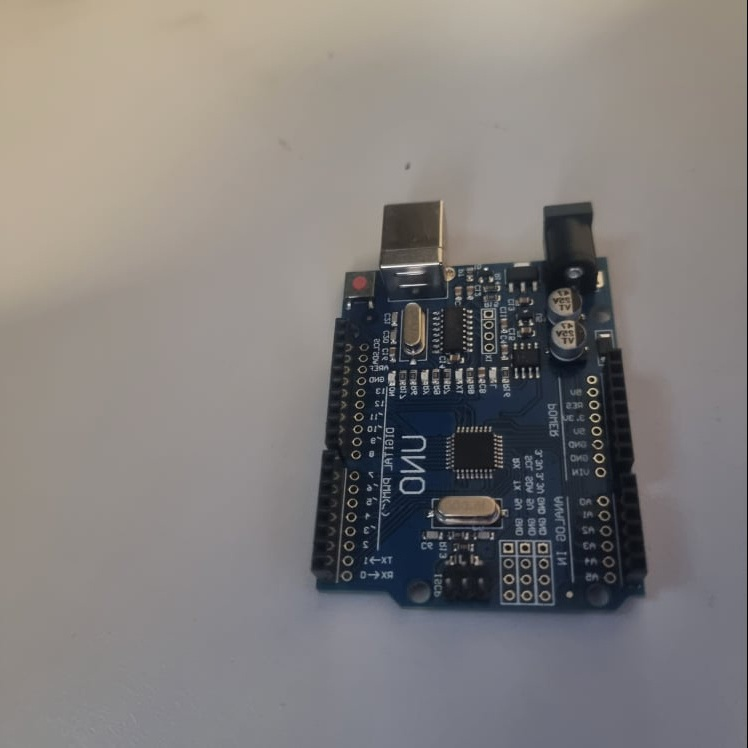UNO R3: (309, 196, 651, 622)
